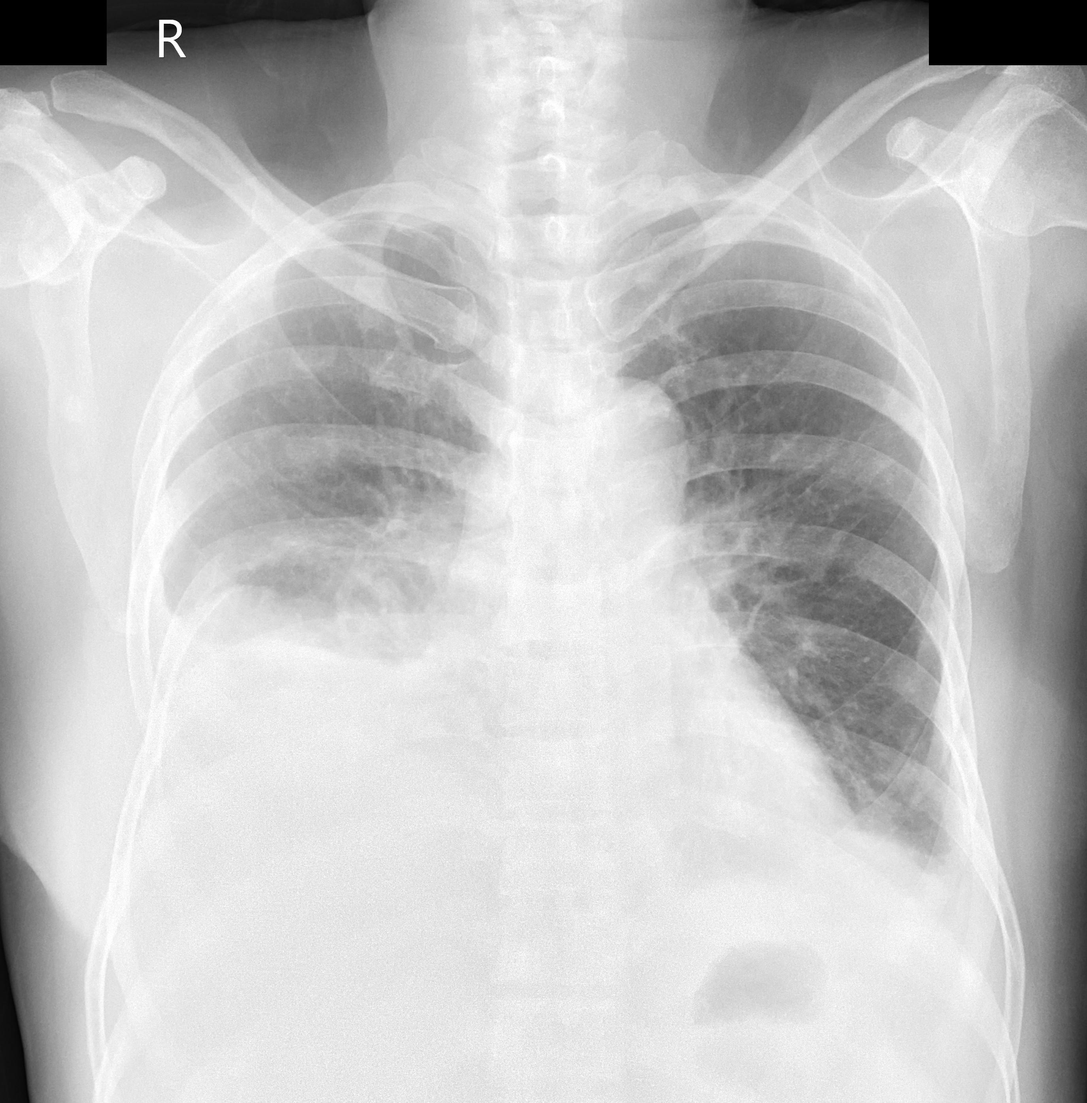Pulmonary fibrosis: (268, 333, 343, 484)
